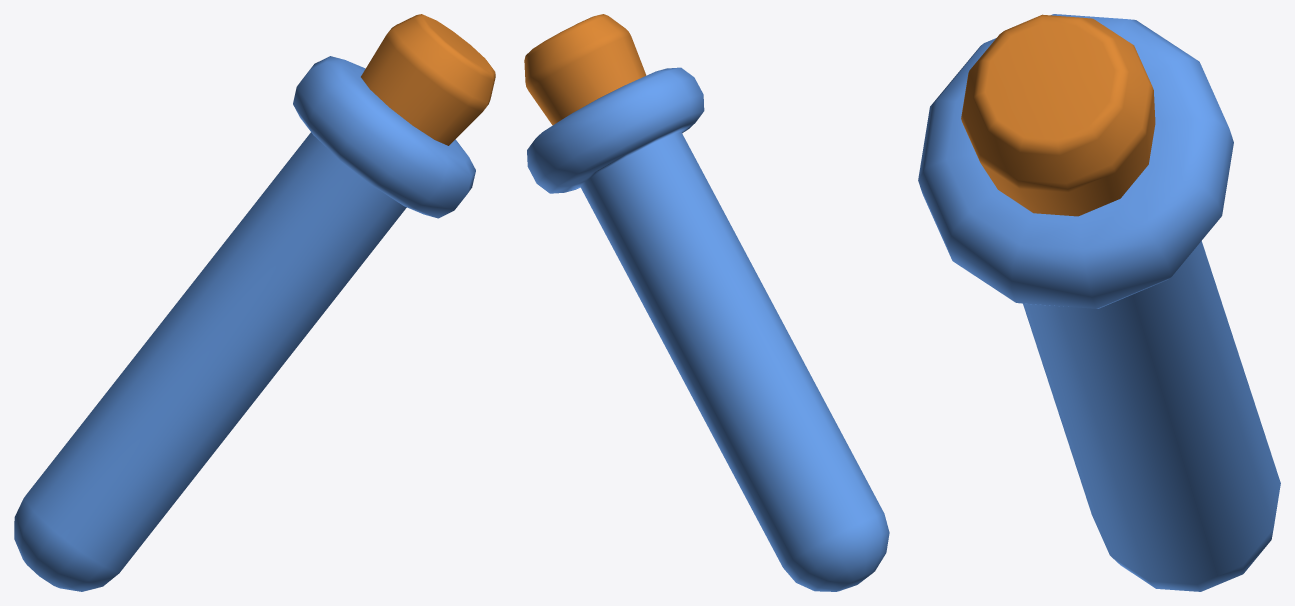
3 renders of one model, left to right at view 1: azimuth 30°, elevation 25°; view 2: azimuth 150°, elevation 25°; view 3: azimuth 270°, elevation 25°, orthographic. The views are drawn at different scales.
Visible parts, largest first — view 1: model_1.111; view 2: model_1.111; view 3: model_1.111.
Part boxes in pixels (<box>): model_1.111: <box>14,14,495,591</box>; model_1.111: <box>524,14,889,591</box>; model_1.111: <box>918,14,1280,591</box>.
Bounding box in the file's own units: 3.46 × 4.04 × 1.68.
